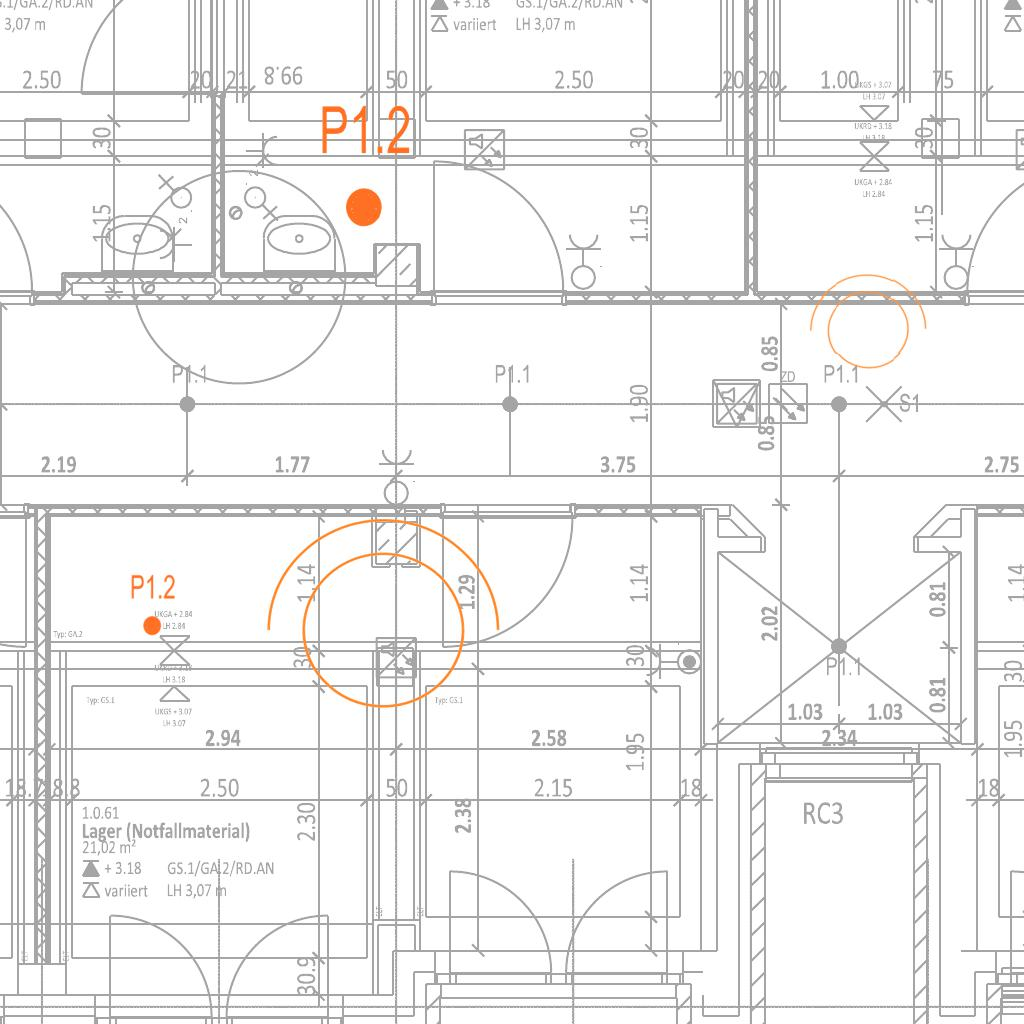Downlight_LED_Einbauleuchten_Flur: (319, 102, 412, 230), (130, 573, 176, 637)
Scheinwerfer_fuer_Alarmbeleuchtung: (245, 508, 509, 733), (798, 267, 932, 383)
